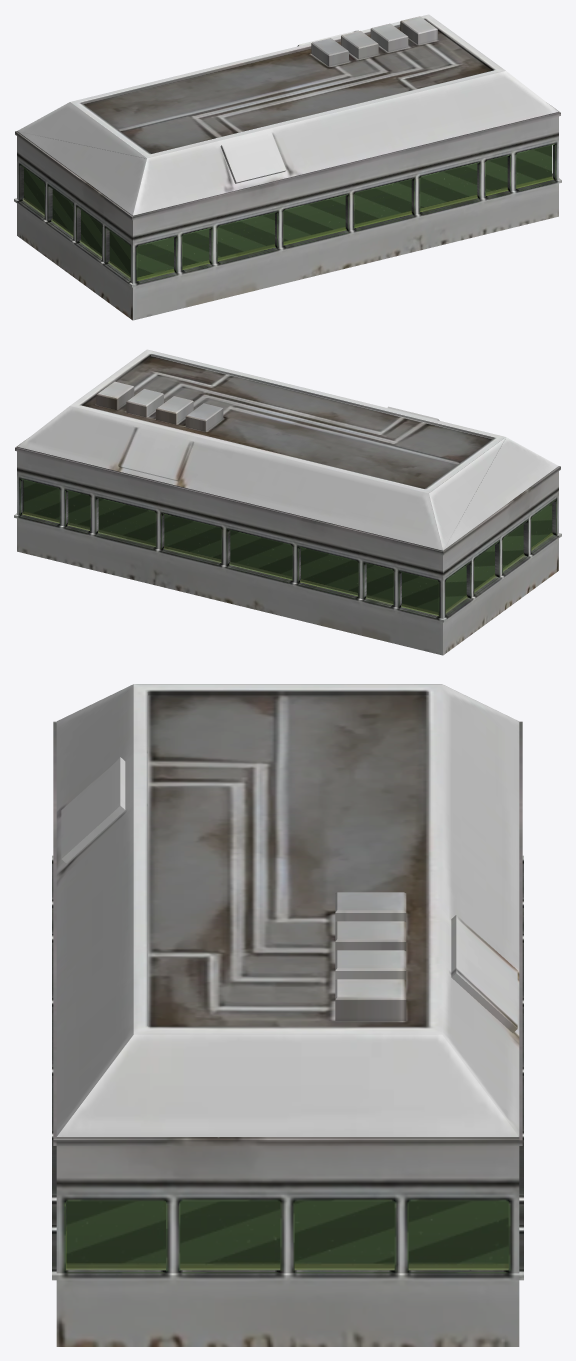
The model's file is walkway_cad.glb.
3 renders of one model, top to bottom at view 1: azimuth 30°, elevation 25°; view 2: azimuth 150°, elevation 25°; view 3: azimuth 270°, elevation 25°, orthographic. The views are drawn at different scales.
Visible parts, largest first — view 1: Terminal; view 2: Terminal; view 3: Terminal.
Part boxes in pixels (x1=…): Terminal: x1=14, y1=14, x2=561, y2=320; Terminal: x1=14, y1=349, x2=561, y2=655; Terminal: x1=52, y1=684, x2=523, y2=1346.
Bounding box in the file's own units: 25.74 × 8.55 × 12.24.
1 material, 1 textured.
